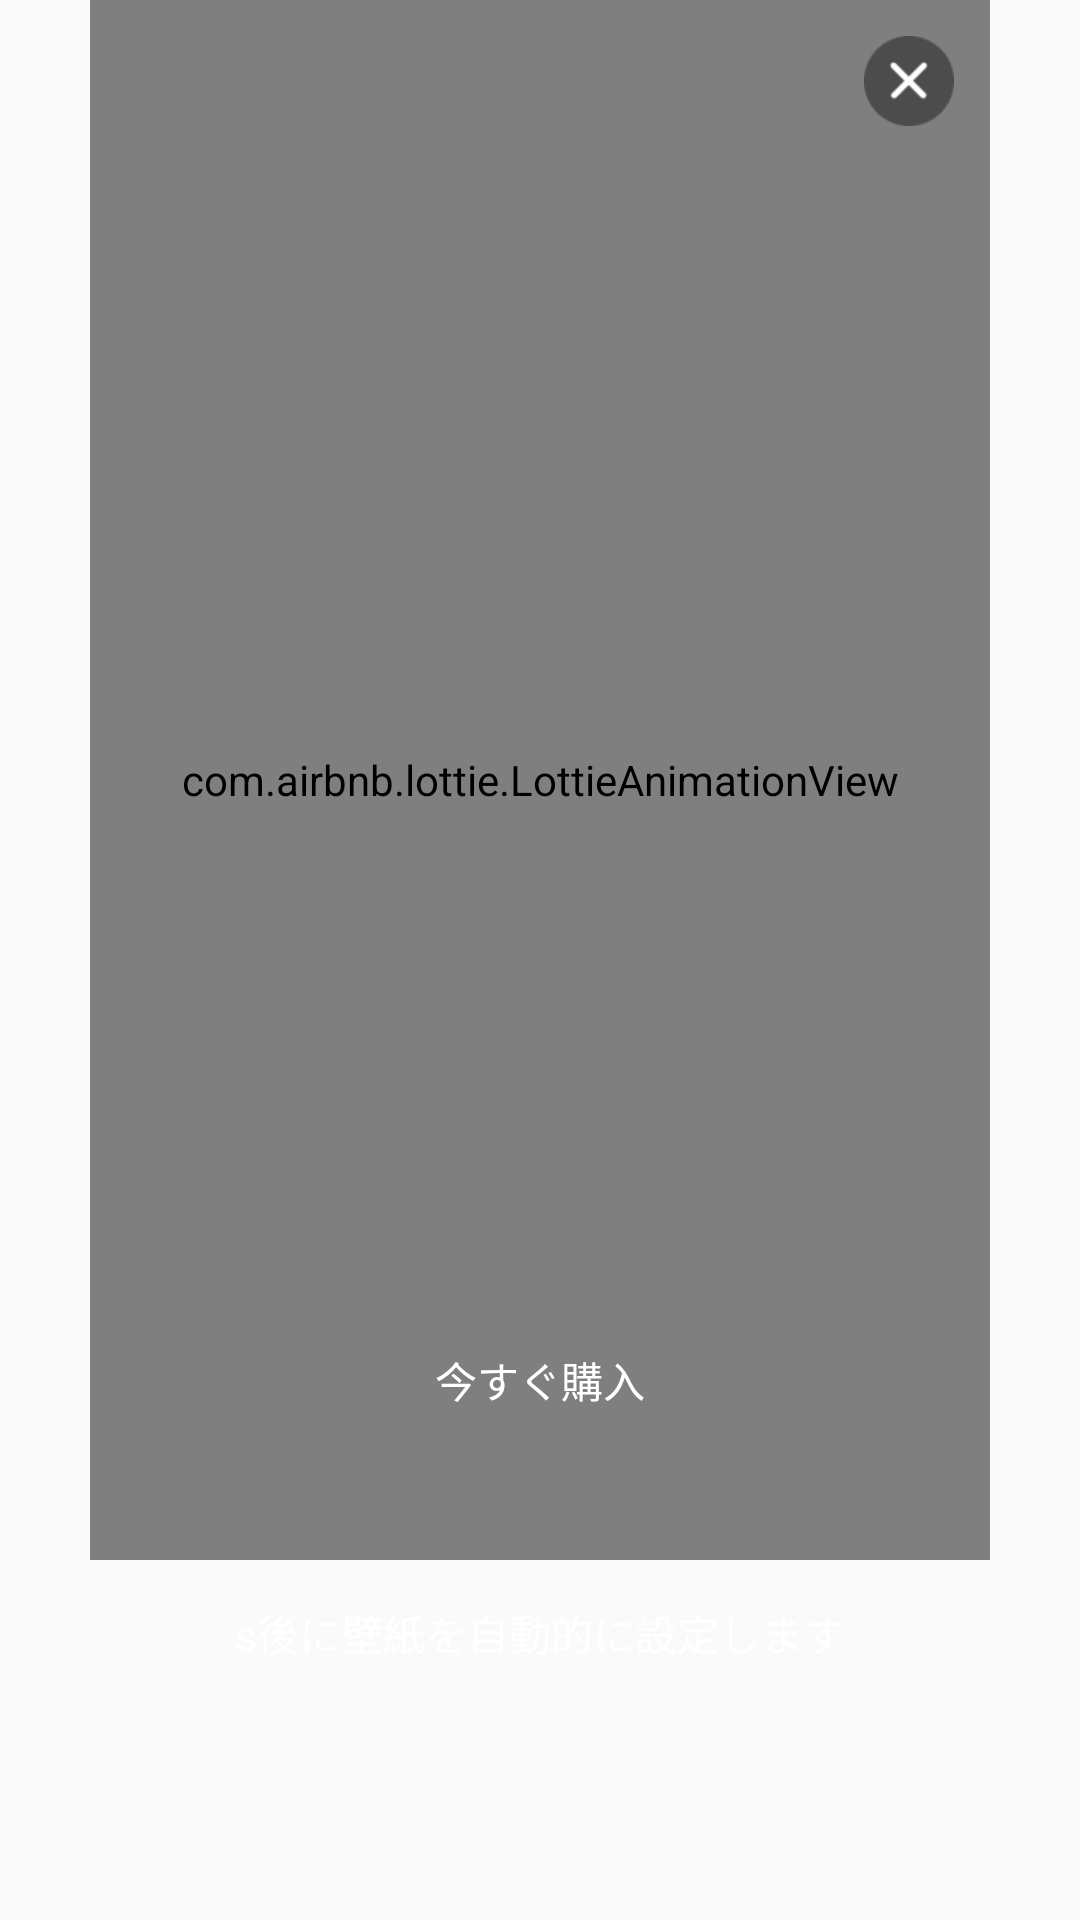

Named icons in this screenshot (1080w x 1920h) and their bounding boxes, (x1, y1, x2, y2):
ad close: (864, 36, 954, 126)
